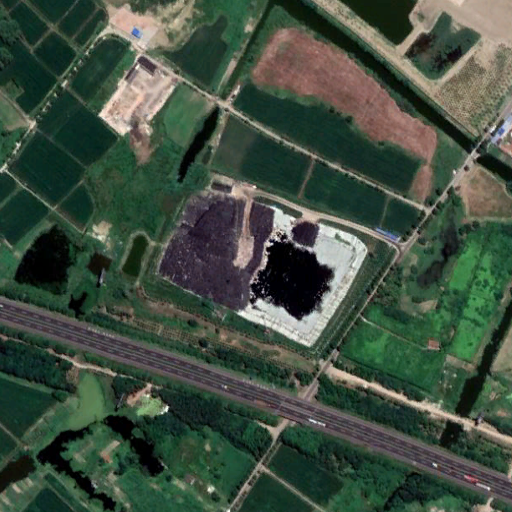lf: (152, 193, 368, 347)
